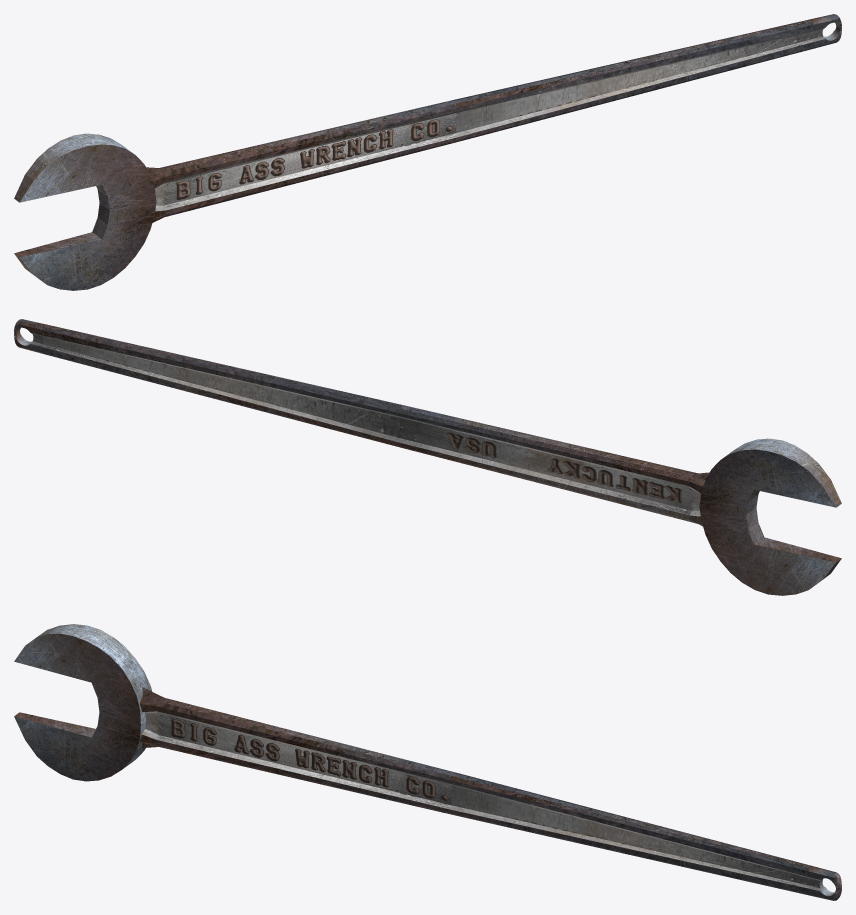
The model's file is IndustrialWrench.fbx.
The picture shows the model from 3 angles, top to bottom: view 1: azimuth 30°, elevation 25°; view 2: azimuth 150°, elevation 25°; view 3: azimuth 330°, elevation 25°; orthographic projection.
Parts seen in each view (by area): view 1: ZomboidIndustrialWrench; view 2: ZomboidIndustrialWrench; view 3: ZomboidIndustrialWrench.
Boxes of the visible parts, bbox=[...] form: ZomboidIndustrialWrench: bbox=[14, 14, 841, 290]; ZomboidIndustrialWrench: bbox=[14, 319, 841, 595]; ZomboidIndustrialWrench: bbox=[14, 624, 841, 900].
Size of the model in its own units: 0.873 by 0.145 by 0.0288.
